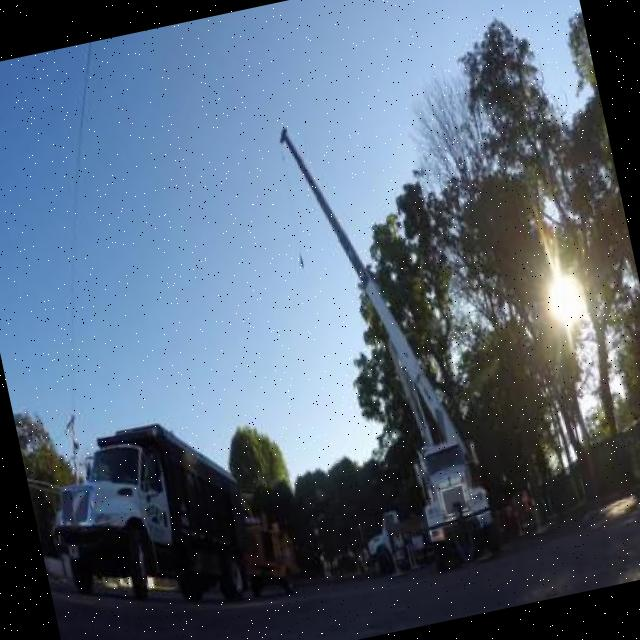Mobile Crane: (272, 94, 512, 582)
